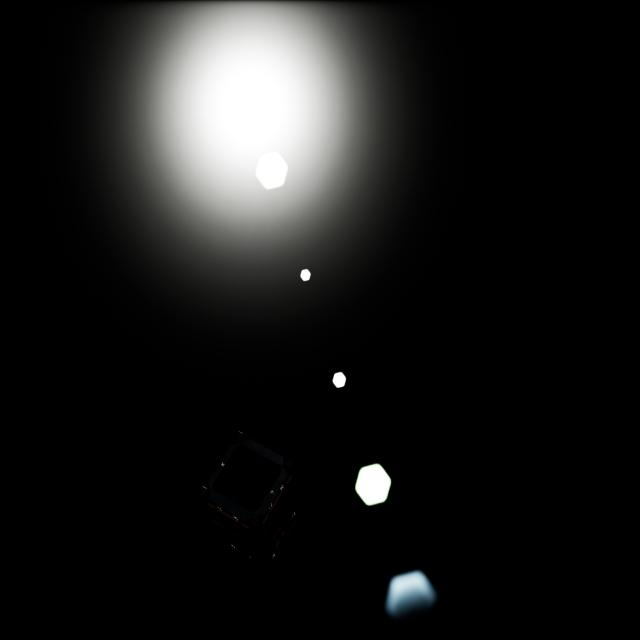satellite: (191, 431, 310, 591)
